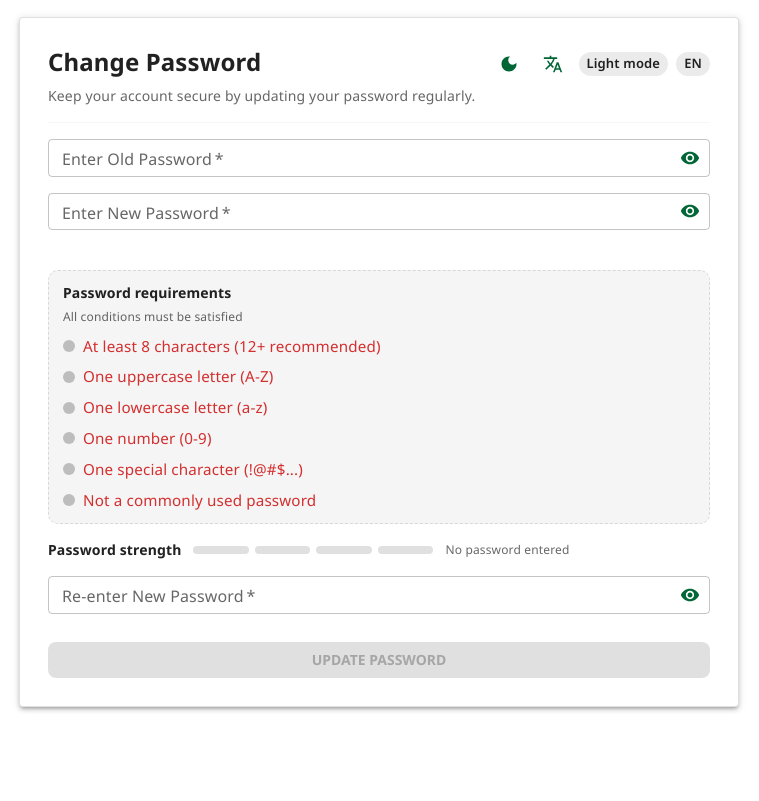
Test: ChangePasswordPage › displays cooldown warning when API rate limits the request
The image size is (759, 801).
Step 1. Type "OldPass@123" into the password field labelled "Enter Old Password *" → coordinates (356, 158), box [48, 139, 664, 176]
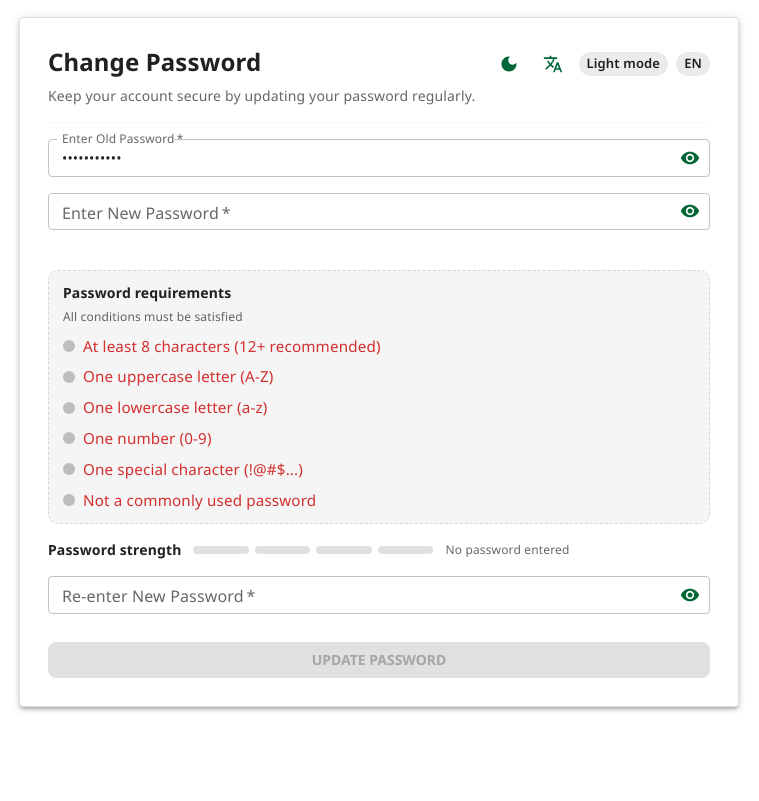
Step 2. Type "NewPass@1234" into the password field labelled "Enter New Password *" → coordinates (356, 211), box [48, 192, 664, 230]
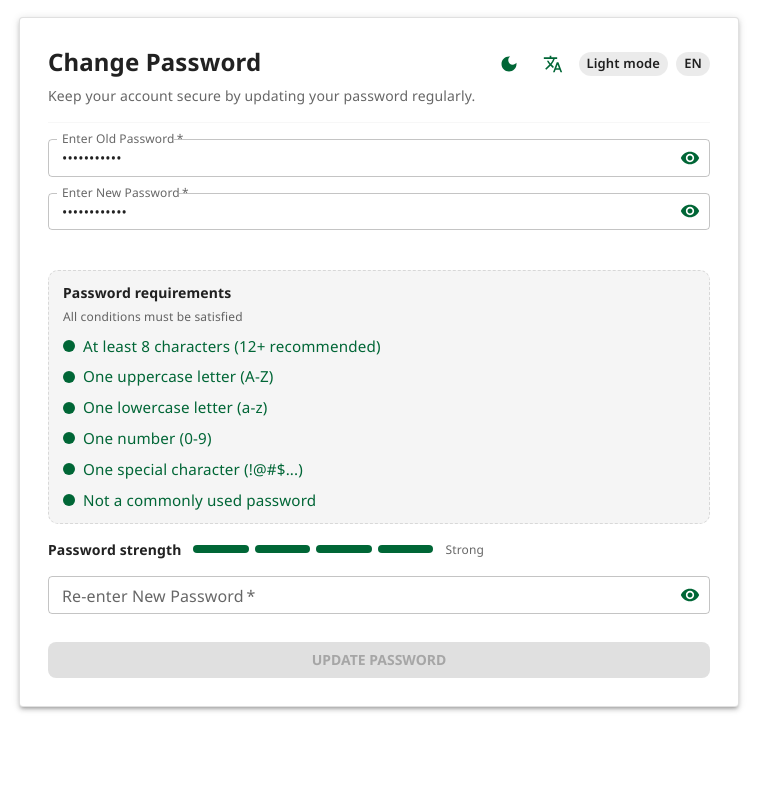
Step 3. Type "NewPass@1234" into the password field labelled "Re-enter New Password *" → coordinates (356, 595), box [48, 576, 664, 614]
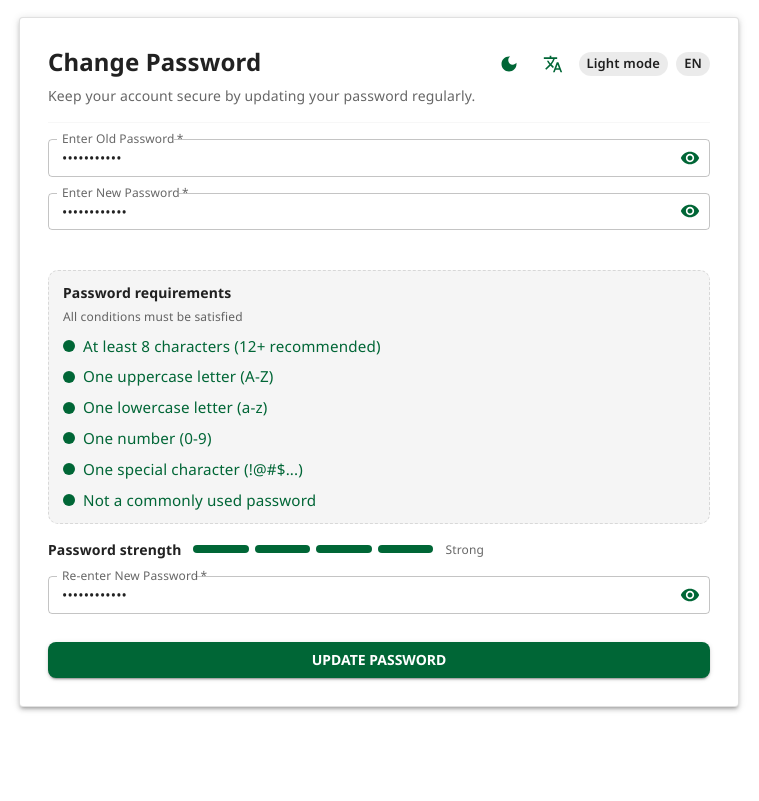
Step 4. Click the button "Update Password" → coordinates (379, 660), box [48, 642, 710, 678]
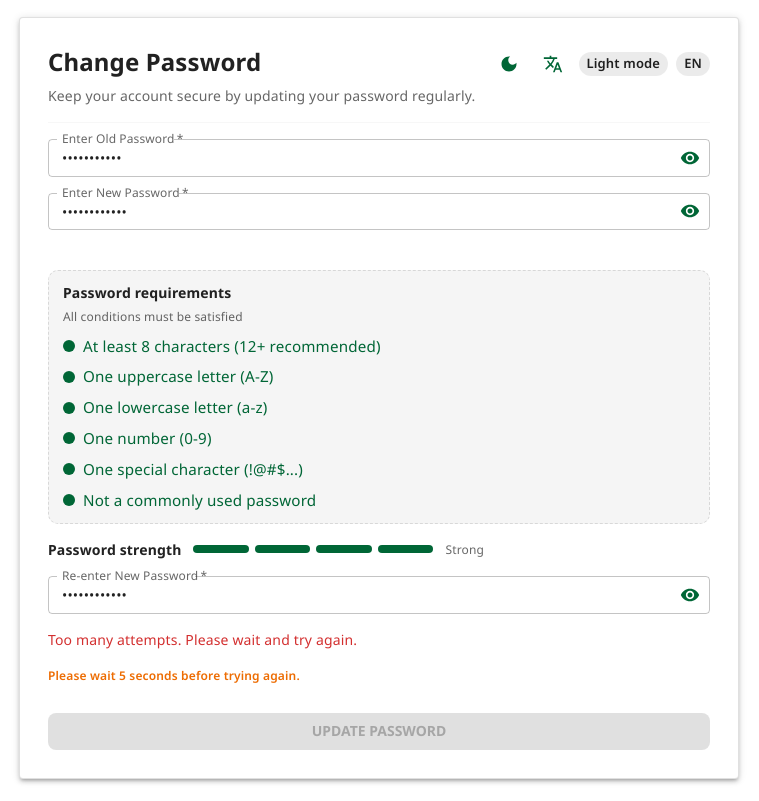
Expected: the text "Please wait 5 seconds before trying again." is shown, [48, 666, 300, 684]
